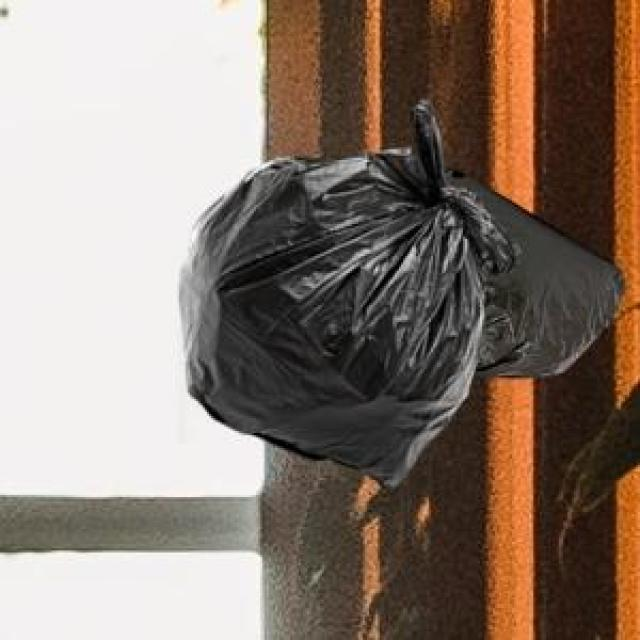miscellaneous trash: (175, 94, 516, 482), (441, 162, 621, 373)
